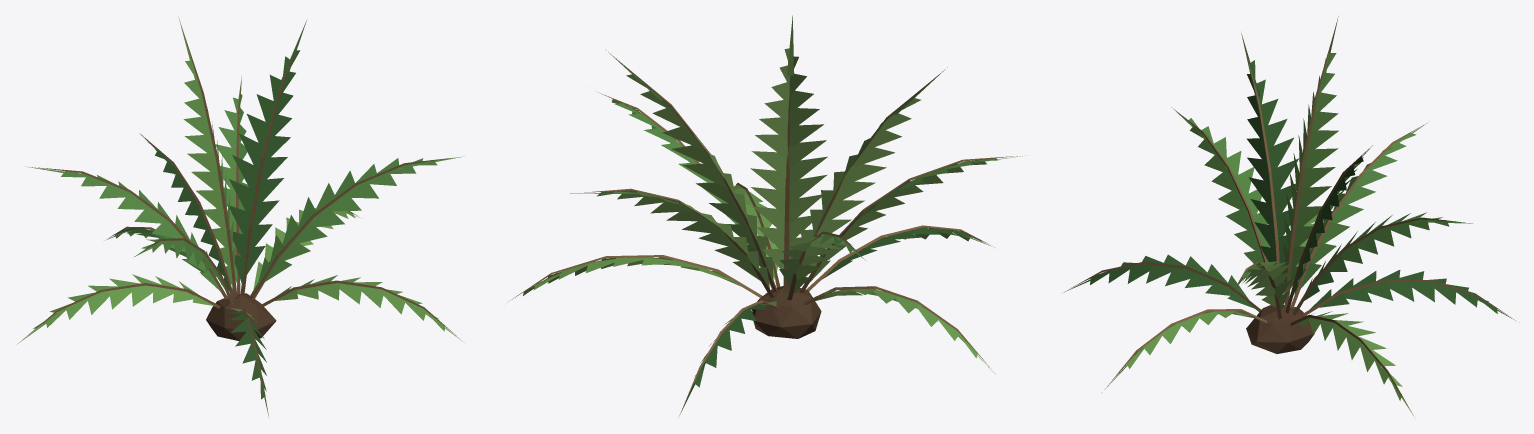
Rendered from fern-plant-1559b8.glb.
3 views of the same model, side by side, from view 1: azimuth 30°, elevation 25°; view 2: azimuth 150°, elevation 25°; view 3: azimuth 270°, elevation 25° (orthographic). The views are drawn at different scales.
Parts seen in each view (by area): view 1: fern-plant-mesh; view 2: fern-plant-mesh; view 3: fern-plant-mesh.
Boxes of the visible parts, x1=… form: fern-plant-mesh: x1=16, y1=17, x2=464, y2=416; fern-plant-mesh: x1=510, y1=15, x2=1022, y2=417; fern-plant-mesh: x1=1064, y1=16, x2=1515, y2=417.
Bounding box in the file's own units: 1.02 × 0.7247 × 0.9735.
